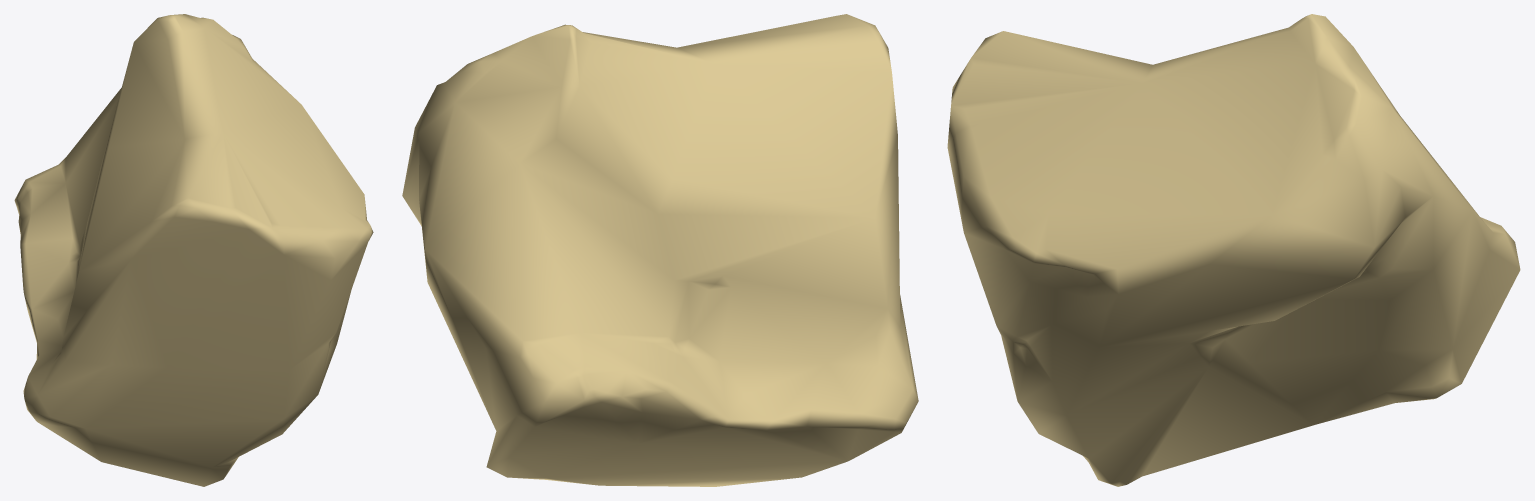
The picture shows the model from 3 angles, left to right: view 1: azimuth 30°, elevation 25°; view 2: azimuth 150°, elevation 25°; view 3: azimuth 270°, elevation 25°; orthographic projection. The views are drawn at different scales.
Parts seen in each view (by area): view 1: 右侧中间楔骨; view 2: 右侧中间楔骨; view 3: 右侧中间楔骨.
Part boxes in pixels (x1,y1,x2,y2): 右侧中间楔骨: (14, 14, 373, 486); 右侧中间楔骨: (402, 14, 918, 486); 右侧中间楔骨: (947, 14, 1520, 486).
Bounding box in the file's own units: 0.0288 × 0.0338 × 0.0354.
